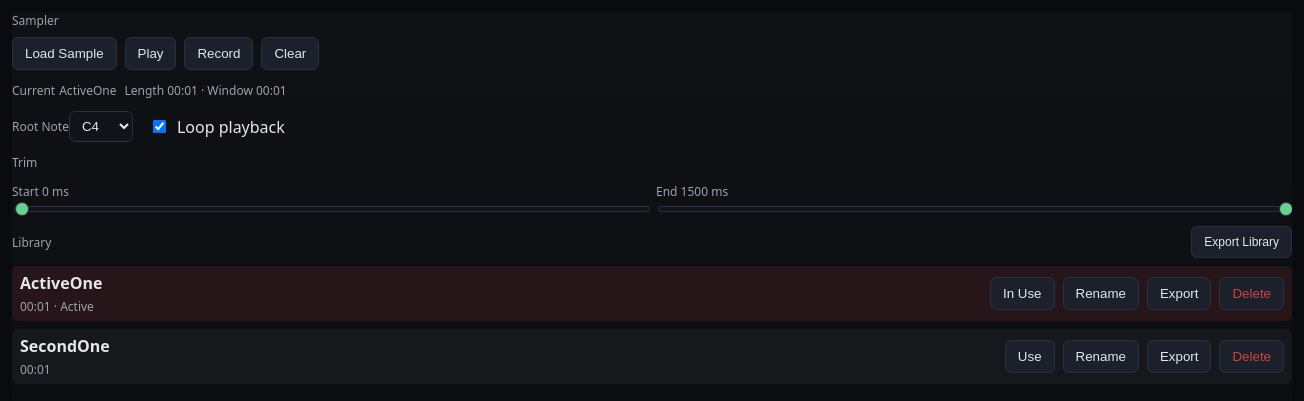
SamplerControls › activates a library sample when selecting "Use"
Click the button "Use".
click(1030, 356)  # box [1005, 340, 1054, 373]
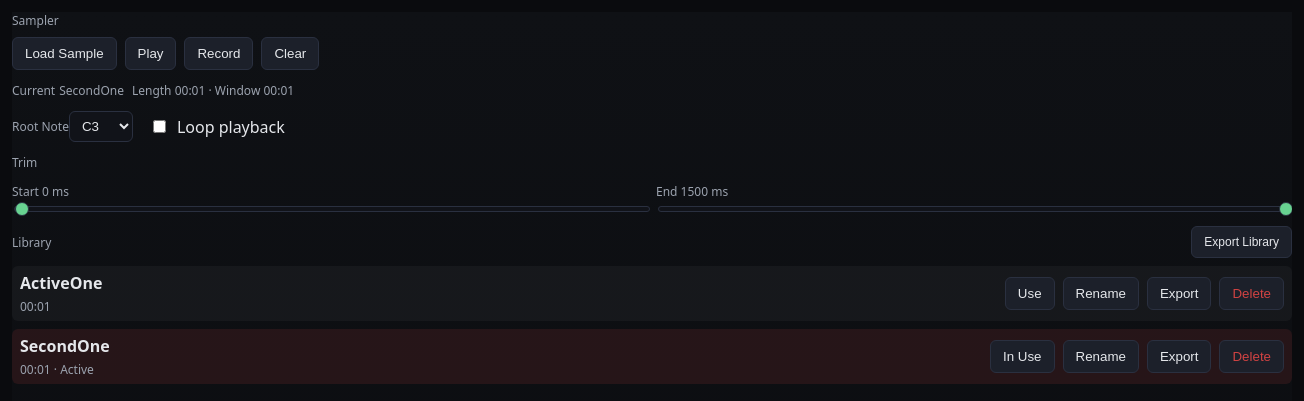
Check: the button "In Use" is shown, box [990, 340, 1054, 373]
